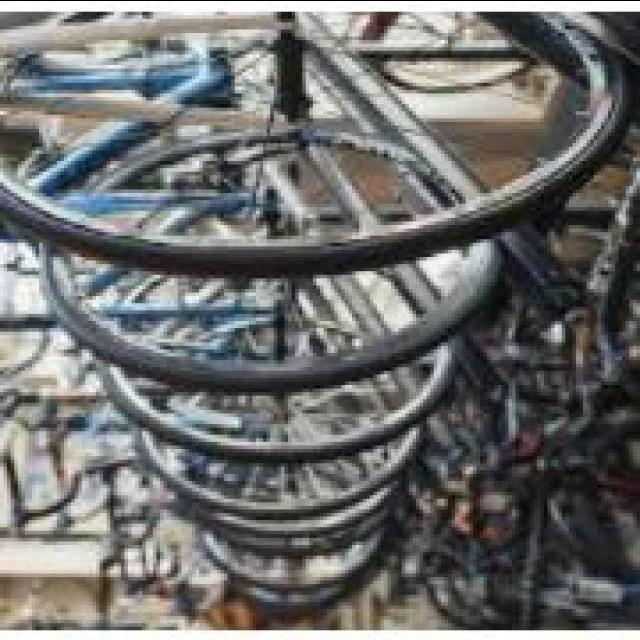bicycle: (1, 1, 640, 289), (37, 107, 485, 399), (55, 385, 421, 538)
